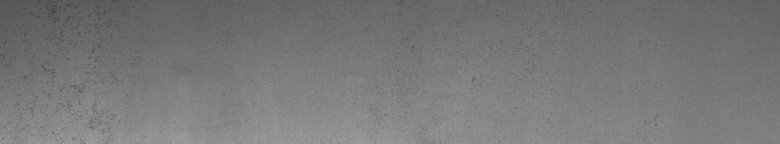ib: (19, 4, 113, 136)
